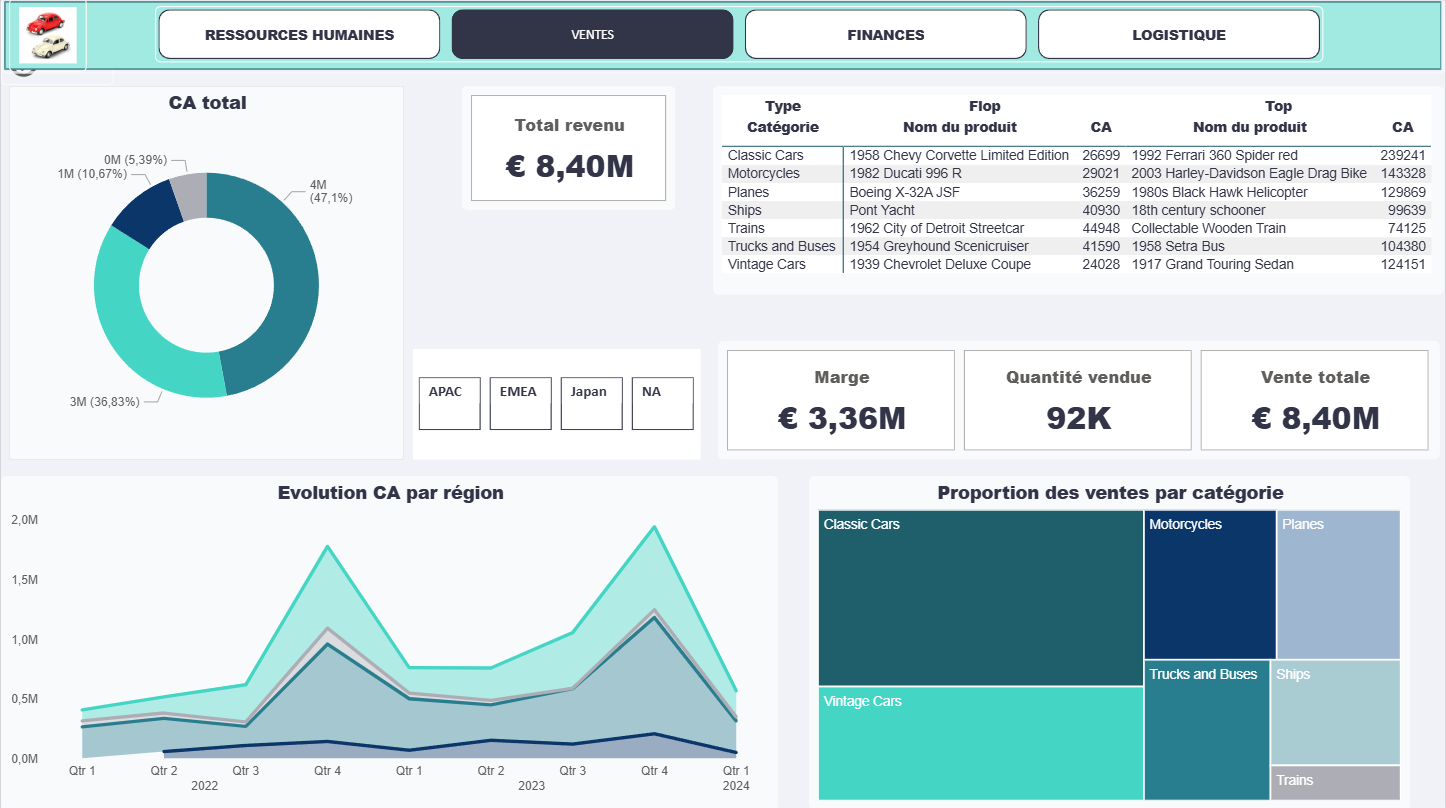

Layout of this report page (visuals, bound fields, positions):
{"tool":"powerbi","page":{"name":"VENTES","canvas":[1280,720],"ordinal":1},"visuals":[{"type":"actionButton","box":[0,37.3,99.9,40.1],"z":0},{"type":"shape","box":[0,0,1280.4,66.5],"z":1000},{"type":"image","box":[7.2,0,69.1,66.4],"z":2000},{"type":"pageNavigator","box":[136.5,7.2,1036,50.3],"z":3000},{"type":"treemap","title":"Proportion des ventes par catégorie","fields":{"Group":["KPI_CA_PER_CATEGORY_AND_MARGE_PROJET1.productLine"],"Values":["Sum(KPI_CA_PER_CATEGORY_AND_MARGE_PROJET1.total_quantity)"]},"box":[716.4,423.9,532.6,295.8],"z":4000},{"type":"donutChart","title":"CA total","fields":{"Category":["KPI_CA_MONTH_REGION_PROJET1.region"],"Y":["Sum(KPI_CA_MONTH_REGION_PROJET1.total_revenue)"]},"box":[7.2,78.1,350.1,331.3],"z":5000},{"type":"cardVisual","fields":{"Data":["Sum(KPI_CA_MONTH_REGION_PROJET1.total_revenue)"]},"box":[408.5,78.1,189.2,110.1],"z":6000},{"type":"cardVisual","fields":{"Rows":["KPI_CA_MONTH_REGION_PROJET1.region"]},"box":[365.4,311.5,255,97.9],"z":7000},{"type":"stackedAreaChart","title":"Evolution CA par région","fields":{"Y":["Sum(KPI_CA_MONTH_REGION_PROJET1.total_revenue)"],"Series":["KPI_CA_MONTH_REGION_PROJET1.region"],"Category":["KPI_CA_MONTH_REGION_PROJET1.year_month.Variation.Hiérarchie de dates.Année","KPI_CA_MONTH_REGION_PROJET1.year_month.Variation.Hiérarchie de dates.Trimestre"]},"box":[0,423.9,688.9,296.3],"z":8000},{"type":"cardVisual","fields":{"Data":["Sum(KPI_CA_PER_CATEGORY_AND_MARGE_PROJET1.total_margin)","Sum(KPI_CA_PER_CATEGORY_AND_MARGE_PROJET1.total_quantity)","Sum(KPI_CA_PER_CATEGORY_AND_MARGE_PROJET1.total_sales)"]},"box":[635.6,304.3,640.1,105],"z":9000},{"type":"pivotTable","fields":{"Rows":["TopFlop.productLine"],"Columns":["TopFlop.Type"],"Values":["Min(TopFlop.productName)","Sum(TopFlop.CA)"]},"box":[631.5,78.1,648.5,185.4],"z":10000}]}

Visuals, with their boxes in screenshot pixels (x1, y1, x2, y2), scaled from the page's 1280x720 canvas onto the 1446x808 screenshot:
actionButton: l=0, t=42, r=113, b=87
shape: l=0, t=0, r=1445, b=75
image: l=8, t=0, r=86, b=75
pageNavigator: l=154, t=8, r=1325, b=65
"Proportion des ventes par catégorie" treemap: l=809, t=476, r=1411, b=807
"CA total" donutChart: l=8, t=88, r=404, b=459
cardVisual - Sum(KPI_CA_MONTH_REGION_PROJET1.total_revenue): l=461, t=88, r=675, b=211
cardVisual - KPI_CA_MONTH_REGION_PROJET1.region: l=413, t=350, r=701, b=459
"Evolution CA par région" stackedAreaChart: l=0, t=476, r=778, b=807
cardVisual - Sum(KPI_CA_PER_CATEGORY_AND_MARGE_PROJET1.total_margin) x Sum(KPI_CA_PER_CATEGORY_AND_MARGE_PROJET1.total_quantity): l=718, t=341, r=1441, b=459
pivotTable - TopFlop.productLine x TopFlop.Type: l=713, t=88, r=1445, b=296
